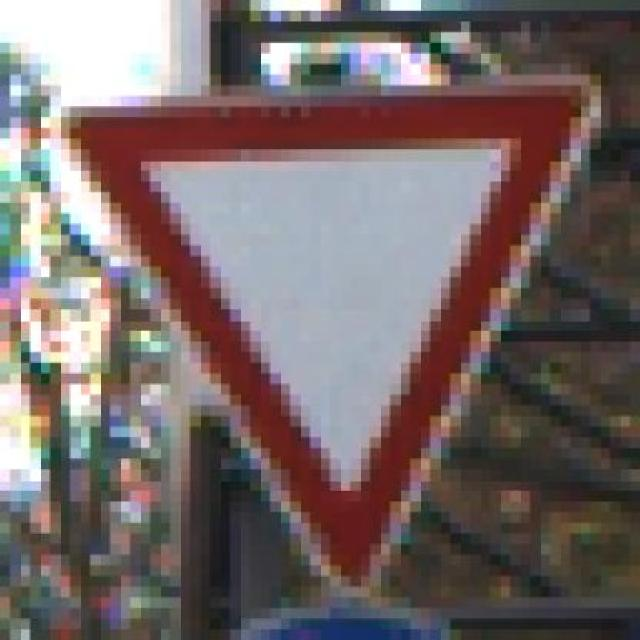Give Way: (30, 64, 630, 608)
